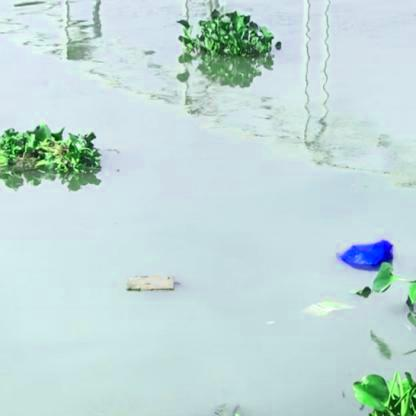Trash: (335, 237, 397, 276), (123, 267, 179, 295), (301, 297, 355, 323)
